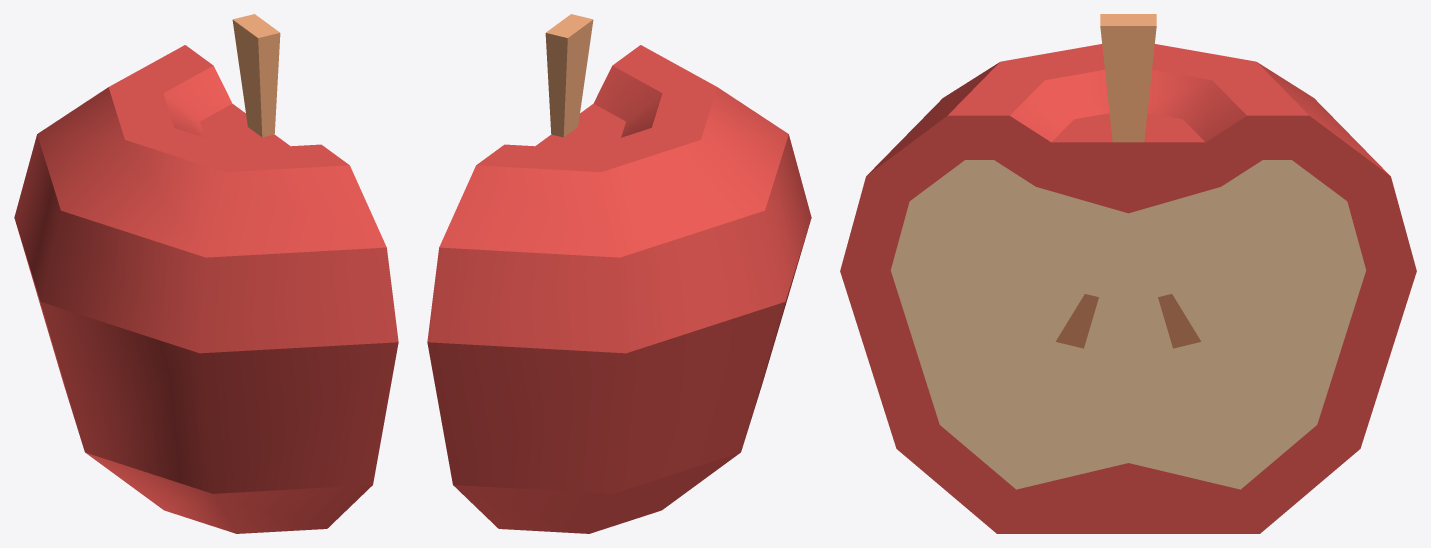
Rendered from Apple Half.glb.
The picture shows the model from 3 angles, left to right: view 1: azimuth 30°, elevation 25°; view 2: azimuth 150°, elevation 25°; view 3: azimuth 270°, elevation 25°; orthographic projection. The views are drawn at different scales.
Parts seen in each view (by area): view 1: Apple Half; view 2: Apple Half; view 3: Apple Half.
Part boxes in pixels (x1,y1,x2,y2): Apple Half: [14, 14, 398, 533]; Apple Half: [427, 14, 811, 533]; Apple Half: [840, 14, 1416, 533].
Bounding box in the file's own units: 0.0981 × 0.1908 × 0.1963.
